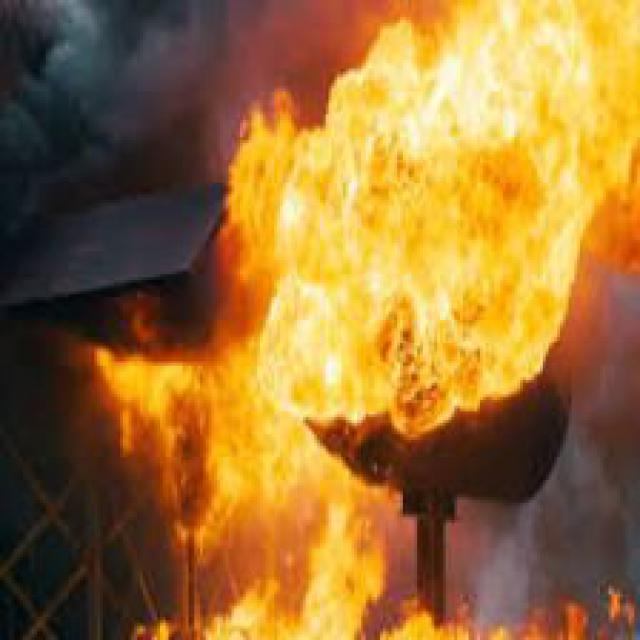fire: (89, 3, 637, 637)
